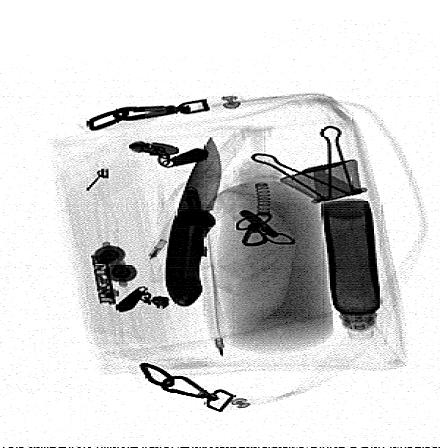Knife: (164, 136, 223, 308)
